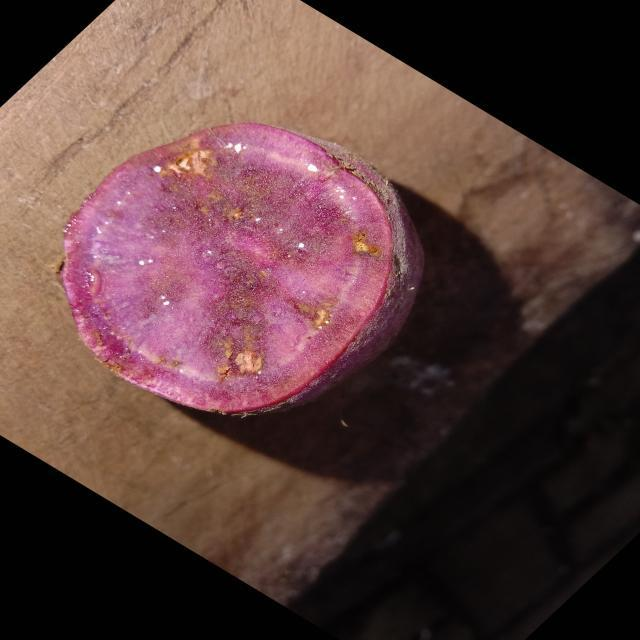Sick Sweet Potato_Tuber Rot: (62, 122, 423, 415)
